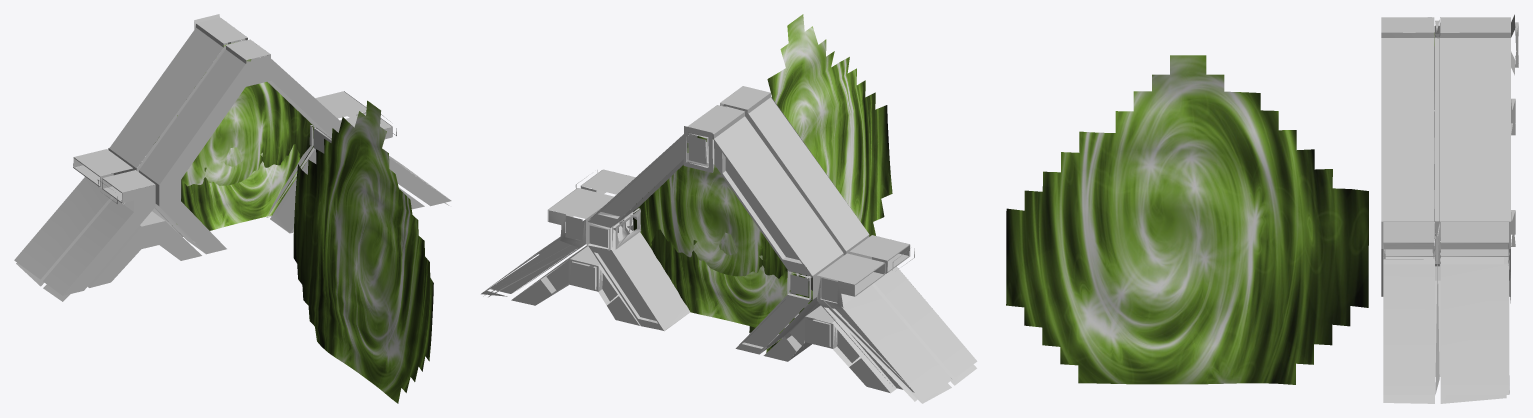
Rendered from portal-dec.fbx.
3 renders of one model, left to right at view 1: azimuth 30°, elevation 25°; view 2: azimuth 150°, elevation 25°; view 3: azimuth 270°, elevation 25°, orthographic. The views are drawn at different scales.
Parts seen in each view (by area): view 1: Object_2, Object_4 (2), Object_4, Object_4 (1); view 2: Object_2, Object_4 (2), Object_4 (1), Object_4; view 3: Object_4 (2), Object_2.
Part boxes in pixels (x1,y1,x2,y2): Object_2: (14, 14, 451, 301); Object_4 (2): (293, 100, 433, 403); Object_4: (177, 59, 312, 186); Object_4 (1): (155, 42, 317, 230); Object_2: (481, 86, 977, 403); Object_4 (2): (749, 14, 892, 352); Object_4 (1): (633, 138, 812, 290); Object_4: (647, 135, 812, 333); Object_4 (2): (1006, 55, 1368, 384); Object_2: (1381, 14, 1518, 403).
Size of the model in its own units: 2521 by 1663 by 2224.
